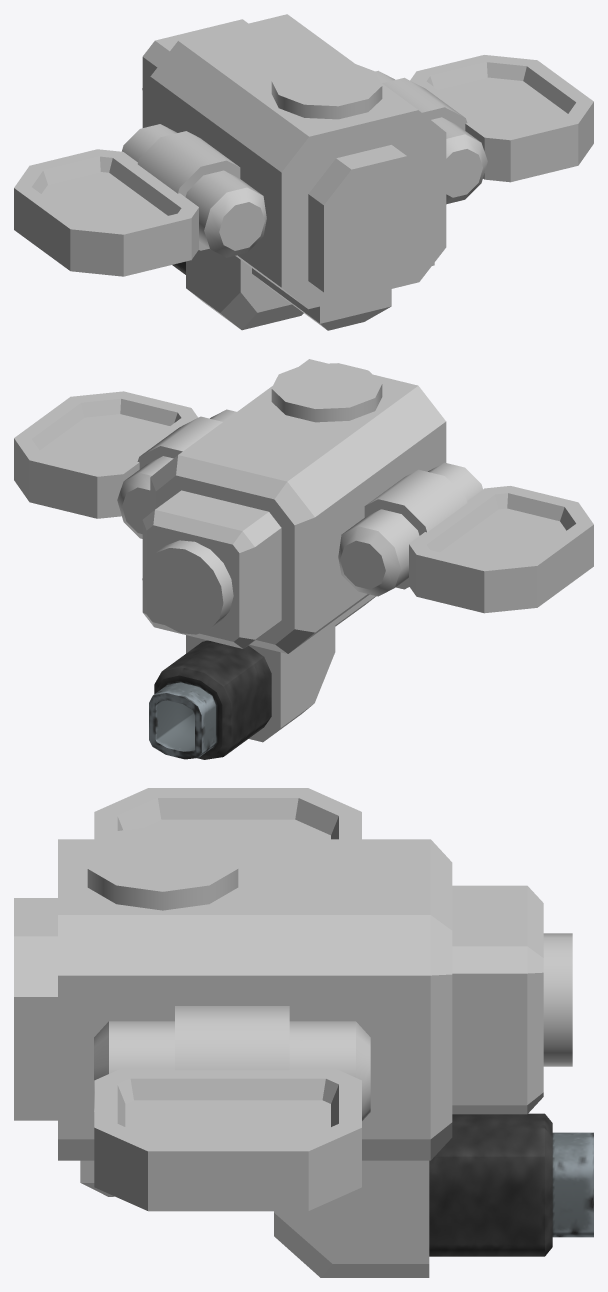
Rendered from GJ_Bot_Cannon.fbx.
3 views of the same model, one above another, from view 1: azimuth 30°, elevation 25°; view 2: azimuth 150°, elevation 25°; view 3: azimuth 270°, elevation 25° (orthographic). The views are drawn at different scales.
Visible parts, largest first — view 1: GJ_Bot_Cannon; view 2: GJ_Bot_Cannon; view 3: GJ_Bot_Cannon.
Part boxes in pixels (left/top/right/bottom): GJ_Bot_Cannon: left=14, top=14, right=593, bottom=330; GJ_Bot_Cannon: left=14, top=359, right=593, bottom=759; GJ_Bot_Cannon: left=14, top=788, right=593, bottom=1277.
Size of the model in its own units: 10.85 by 5.55 by 7.32.
